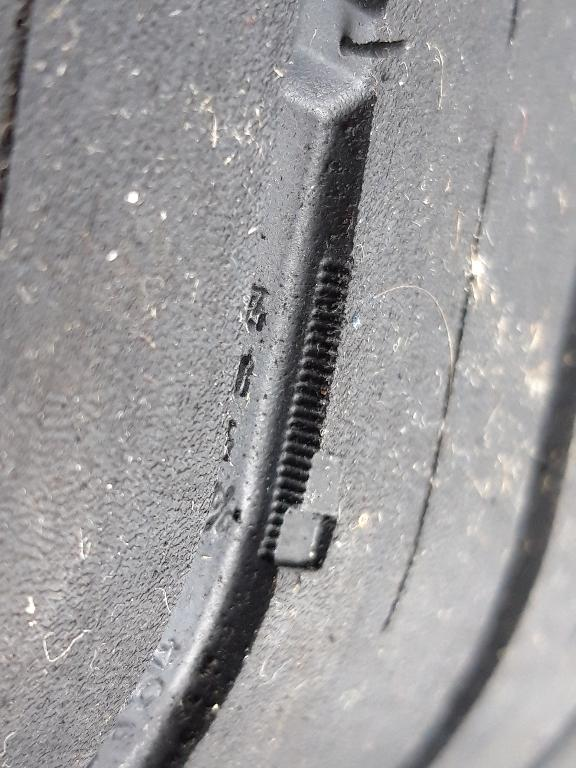temoin:25: (246, 425, 361, 594)
